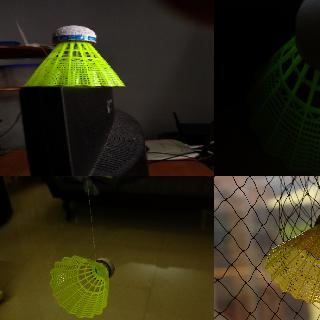shuttlecock: (246, 0, 319, 175), (21, 25, 126, 87), (264, 208, 319, 304), (50, 255, 114, 317)
